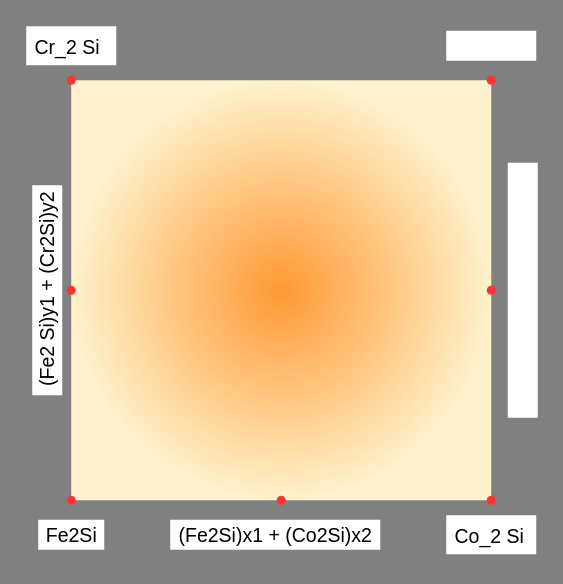
The diagram is 563 pixels wide and 584 high, and some of its shapes have lost their labels. Here are the shapes that lost their labels. From the top down, the centre of each, then its label:
pixel 491 45: Ni_2 Si
pixel 522 289: (Ni_2 Si)_y1+(Co_2 Si)_y2
